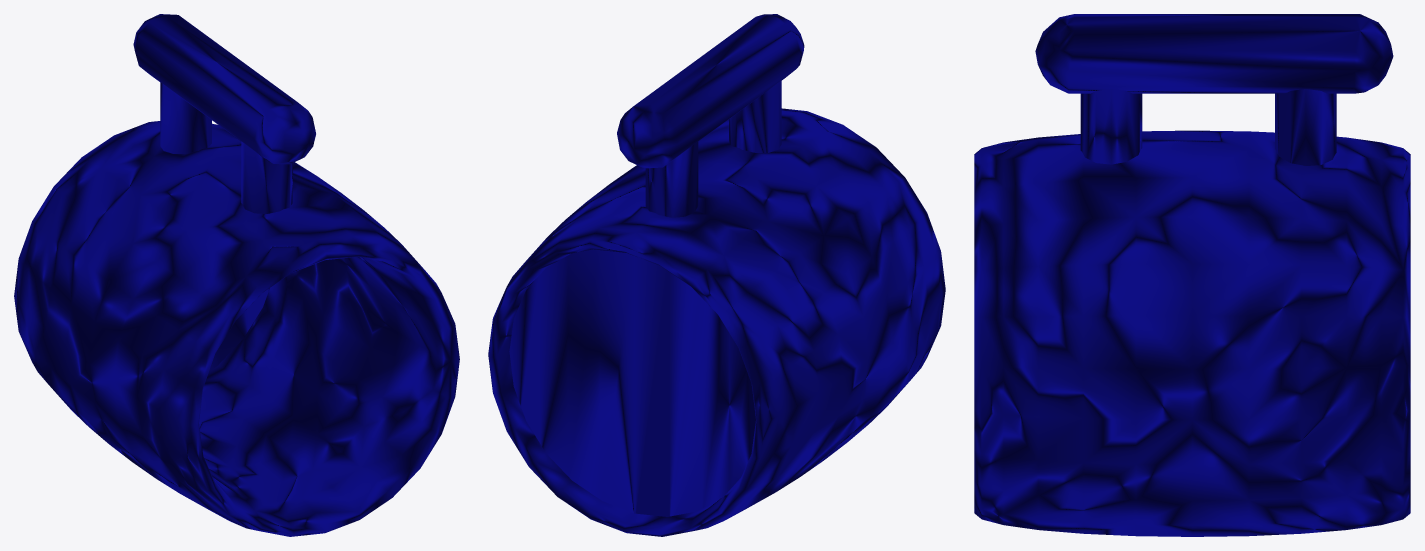
File: model_align.obj
3 views of the same model, side by side, from view 1: azimuth 30°, elevation 25°; view 2: azimuth 150°, elevation 25°; view 3: azimuth 270°, elevation 25° (orthographic). The views are drawn at different scales.
Size of the model in its own units: 0.0857 by 0.1157 by 0.0916.
